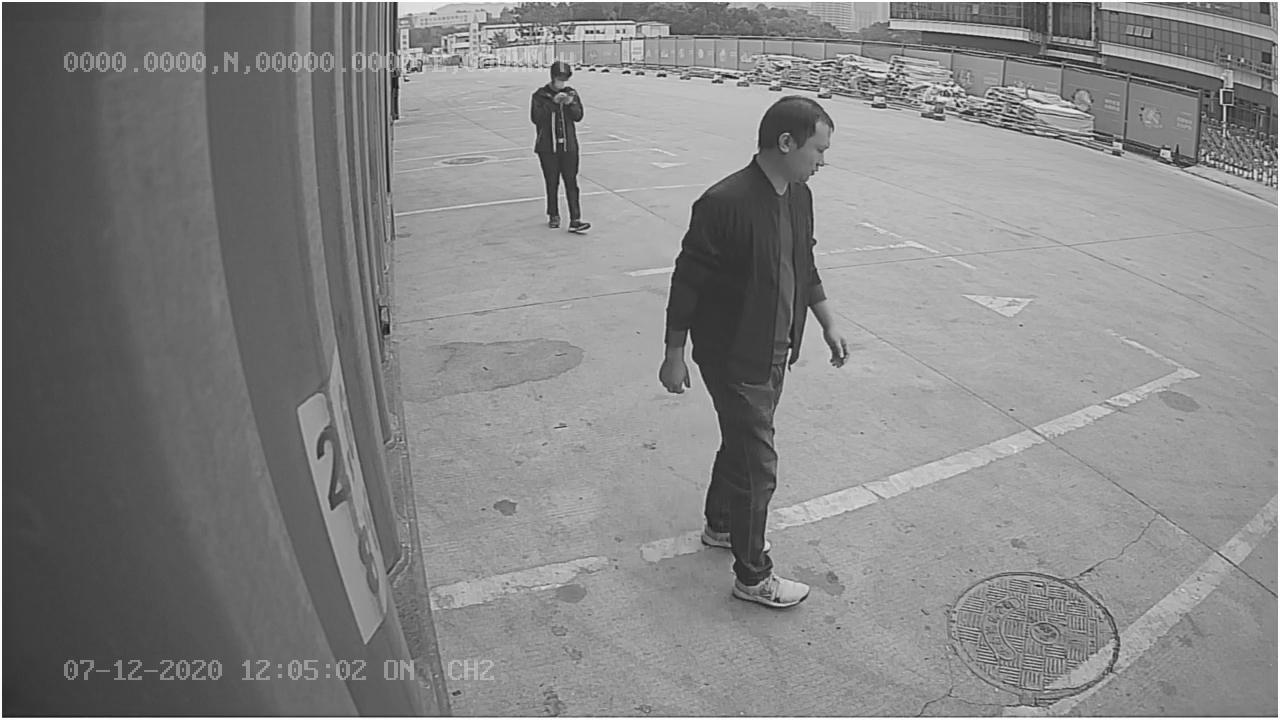person: (655, 90, 861, 611)
